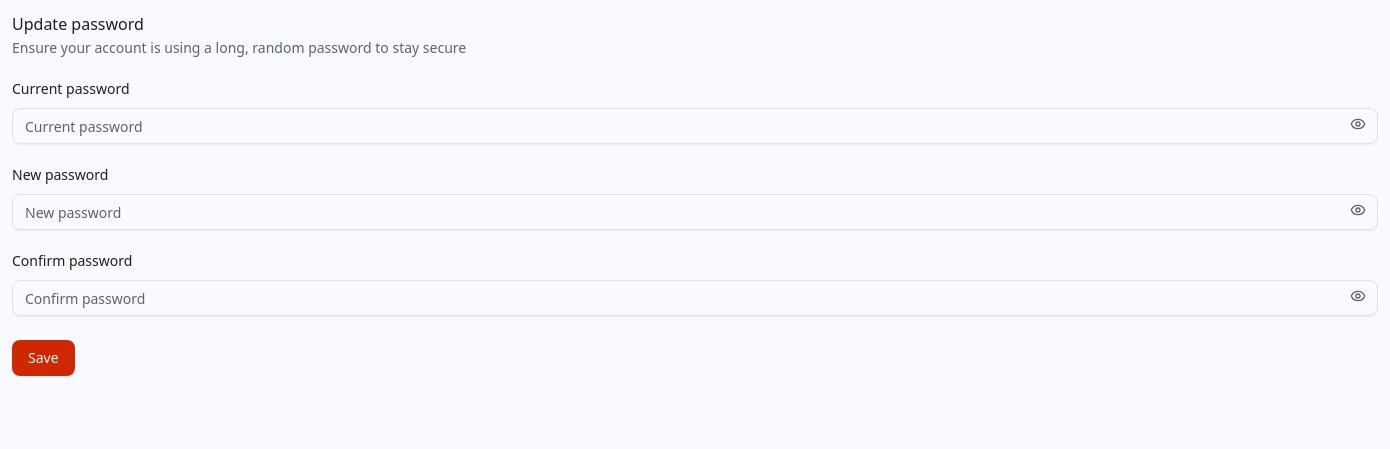
Settings/Security page › maps 422 validation errors onto the matching fields
Click the button "Save" at (43, 358), box [12,340,75,376]
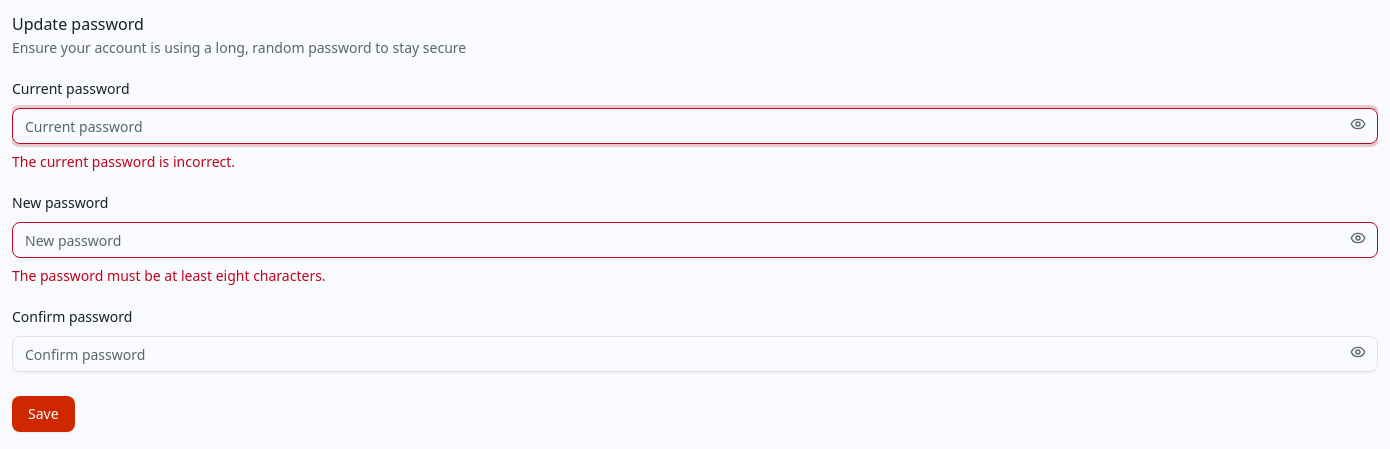
Expected: the button "Save" is enabled, [12,396,75,432]
Result: the text "The current password is incorrect." is shown at [12,152,235,171]
Result: the text "The password must be at least eight characters." is shown at [12,266,326,285]
